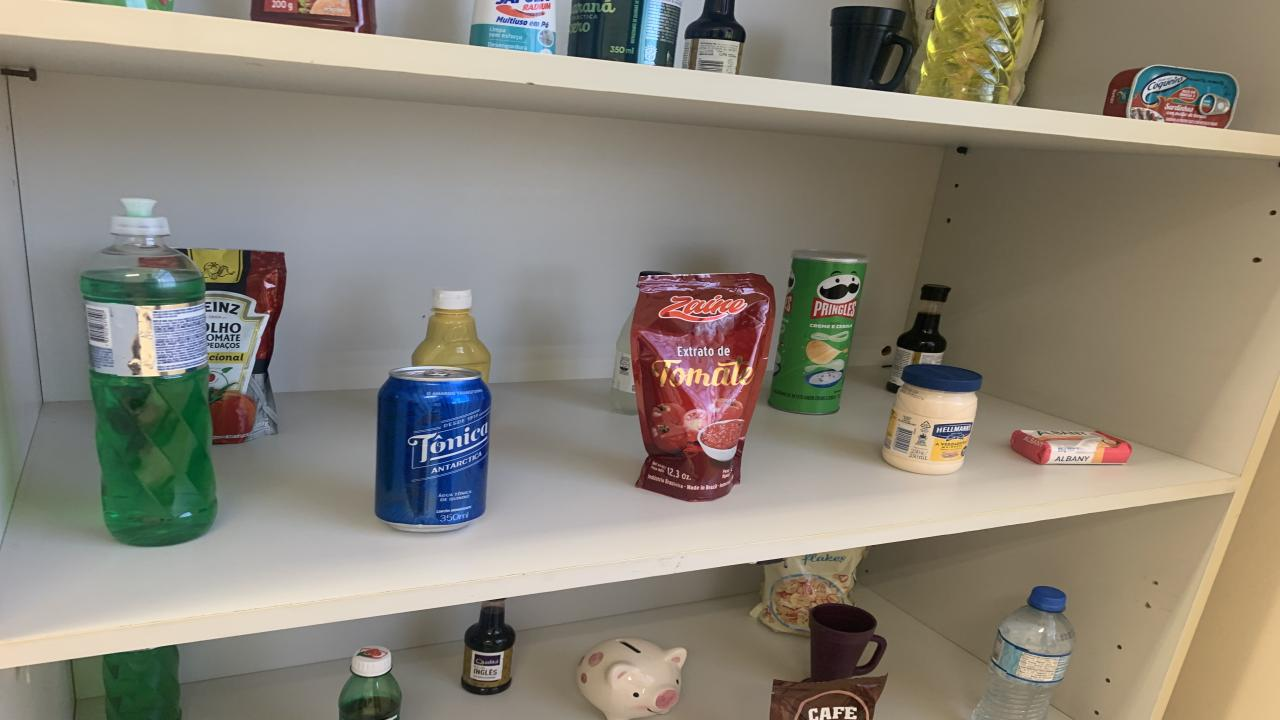Cleaner-Cleanup_Items: (470, 0, 555, 54)
Coffee-Pantry_Items: (770, 675, 888, 720)
Detergent-Cleanup_Items: (80, 199, 218, 546), (918, 0, 1030, 103), (102, 645, 182, 720)
English_Sauce-Pantry_Items: (885, 285, 950, 392), (462, 600, 515, 696), (682, 0, 745, 73)
Flakes-Snacks: (750, 548, 868, 636), (1008, 0, 1042, 105), (908, 0, 938, 94)
Guarana-Drinks: (338, 647, 402, 720)
Guarana_Can-Drinks: (568, 0, 682, 68)
Ketchup-Pantry_Items: (250, 0, 375, 34)
Mayonnaise-Pantry_Items: (882, 364, 982, 474)
Mustard-Pantry_Items: (412, 289, 490, 382)
Pig_Safe-Miscellaneous: (575, 638, 688, 720)
Pringles-Snacks: (768, 249, 868, 414)
Soap-Cleanup_Items: (1010, 429, 1132, 465)
Soda-Drinks: (610, 311, 638, 414), (640, 272, 668, 278)
Tomato_Sauce-Pantry_Items: (630, 274, 775, 502), (180, 248, 285, 444)
Tonic-Drinks: (375, 368, 490, 531)
Tuna_Can-Pantry_Items: (1102, 64, 1238, 129)
Water_Bottle-Drinks: (972, 587, 1075, 720)
